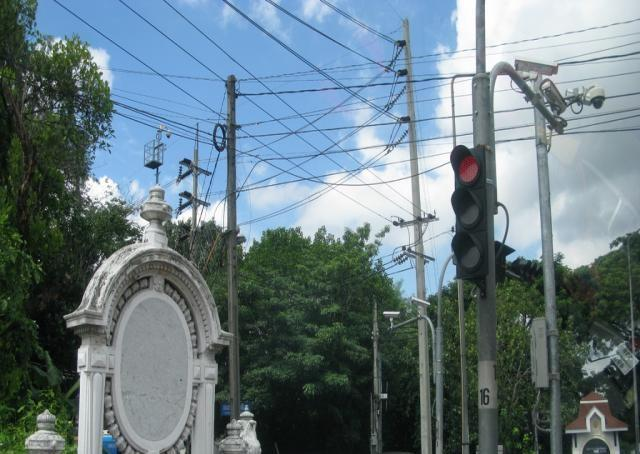red_light: (451, 145, 491, 280)
